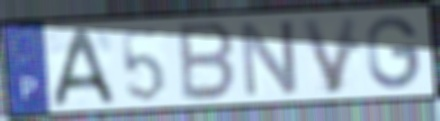5: (117, 24, 169, 102)
A: (50, 25, 119, 109)
B: (177, 19, 238, 104)
G: (364, 14, 421, 93)
N: (237, 17, 301, 101)
V: (297, 13, 361, 97)
